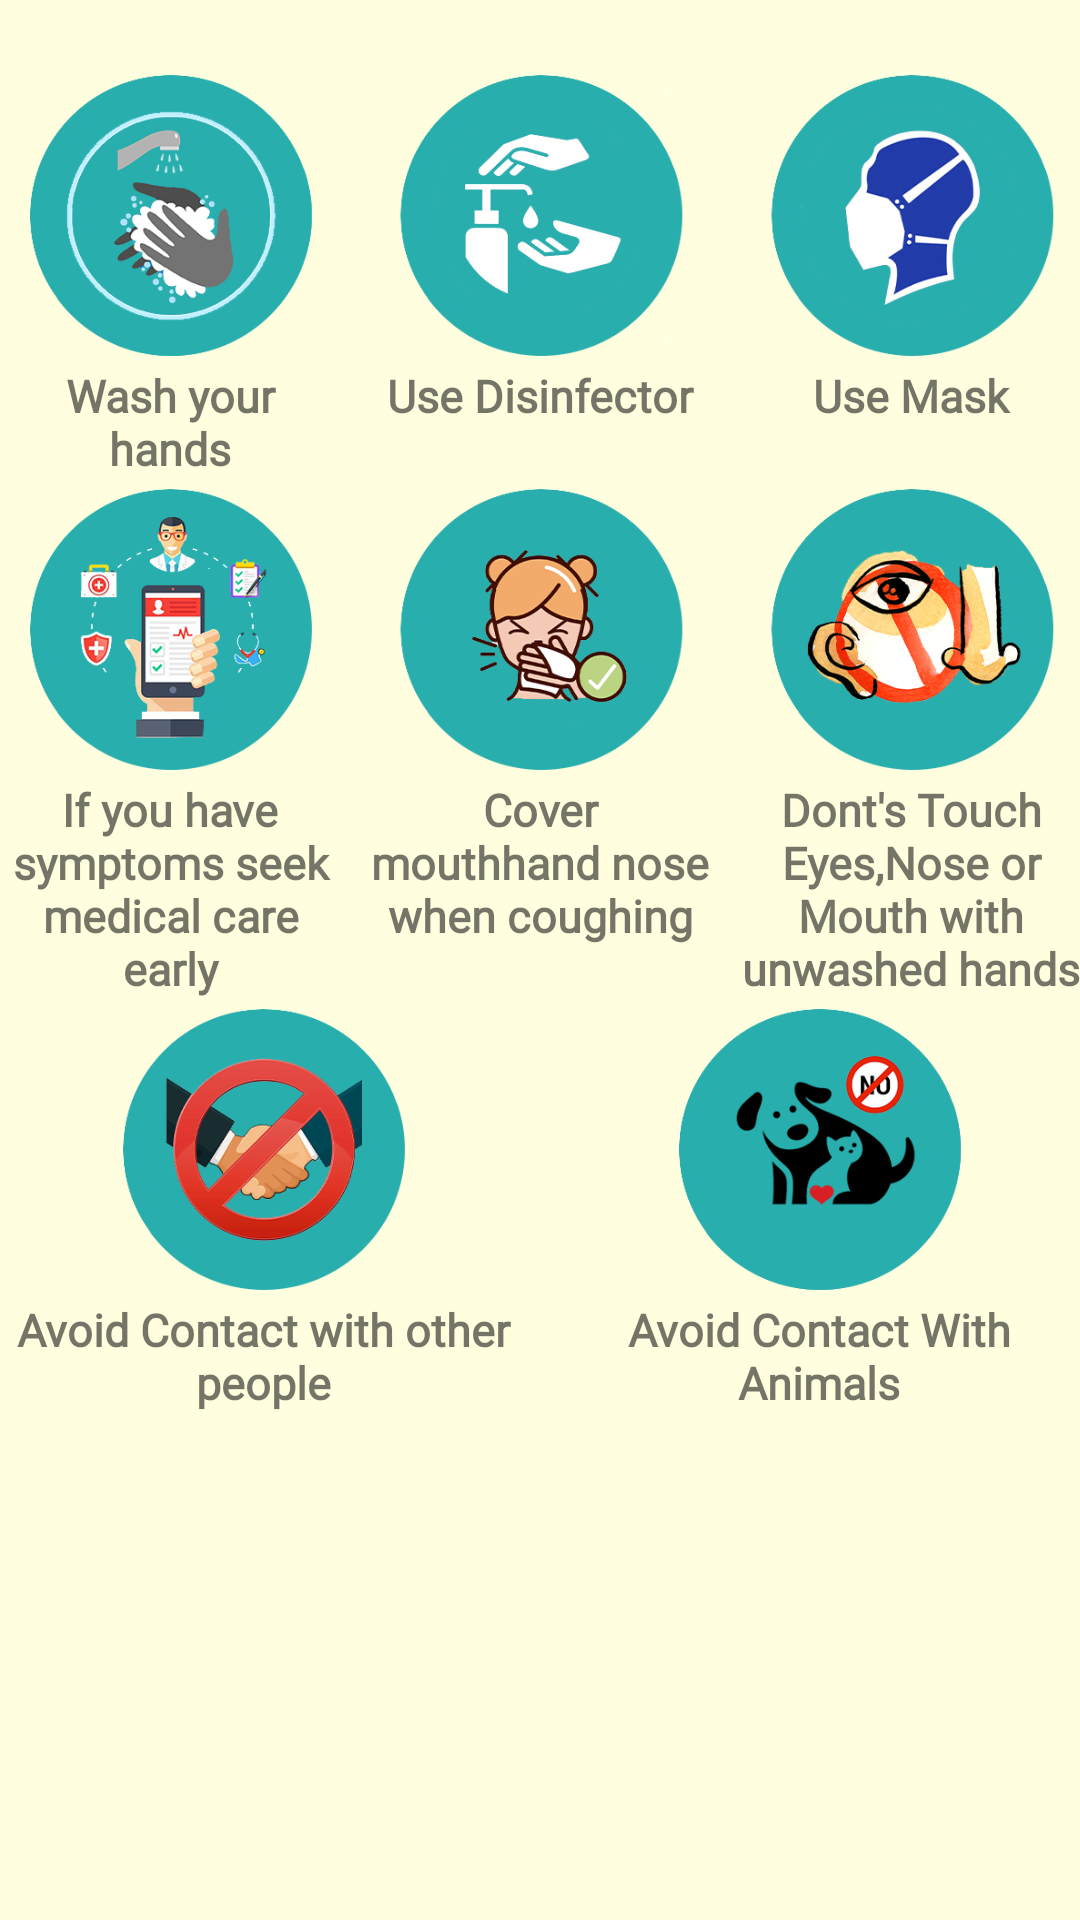

Icon bounding boxes for this 1080w x 1920h phone screenshot, format [x1, y1, x2, y2]:
medicalcareapp: [30, 489, 312, 770]
